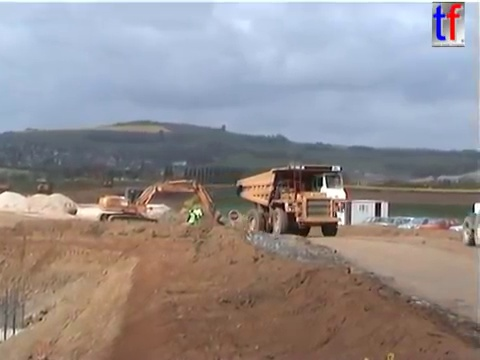excavator: (96, 177, 225, 232)
truck: (234, 161, 349, 238), (459, 200, 480, 248), (35, 178, 51, 196), (1, 181, 11, 200), (102, 176, 112, 187)
worker: (185, 208, 198, 232), (191, 203, 204, 227)
